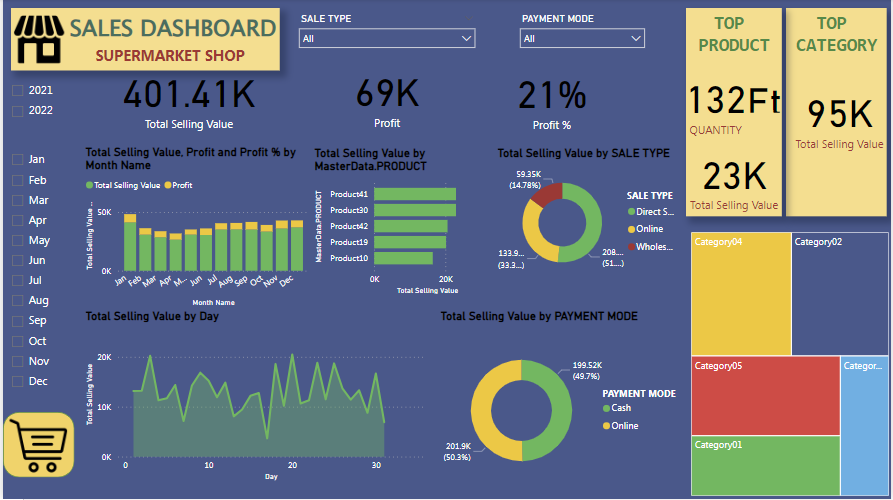

Layout of this report page (visuals, bound fields, positions):
{"tool":"powerbi","page":{"name":"Page 1","canvas":[1280,720],"ordinal":0},"visuals":[{"type":"slicer","fields":{"Values":["InputData.Year"]},"box":[0,112.5,102.5,112.5],"z":0},{"type":"slicer","fields":{"Values":["InputData.SALE TYPE"]},"box":[415.7,14.3,274.3,74.3],"z":1000},{"type":"slicer","fields":{"Values":["InputData.Month Name"]},"box":[0,211.7,102.2,371.5],"z":2000},{"type":"slicer","fields":{"Values":["InputData.PAYMENT MODE"]},"box":[734.3,14.3,200,68.6],"z":3000},{"type":"card","fields":{"Values":["Sum(InputData.Total Selling Value)"]},"box":[156.5,87,221.7,108.7],"z":4000},{"type":"textbox","box":[1127.5,13,145.4,299.5],"z":4500},{"type":"card","fields":{"Values":["Sum(InputData.Total Selling Value)"]},"box":[1133.3,113.8,142.6,110.9],"z":5000},{"type":"textbox","box":[983.5,13,138.2,299.5],"z":5500},{"type":"card","fields":{"Values":["InputData.Profit"]},"box":[466.6,86.4,172.8,106.6],"z":6000},{"type":"card","fields":{"Values":["InputData.Profit %"]},"box":[704.2,89.3,172.8,106.6],"z":7000},{"type":"card","fields":{"Values":["Sum(InputData.Total Selling Value)"]},"box":[982.9,204.3,138.6,107.1],"z":8000},{"type":"card","fields":{"Values":["Min(InputData.MasterData.UOM)"]},"box":[1052.6,113.8,87.8,54.7],"z":9000},{"type":"card","fields":{"Values":["Sum(InputData.QUANTITY)"]},"box":[943.2,95,165.6,109.4],"z":10000},{"type":"columnChart","fields":{"Category":["InputData.Month Name"],"Y":["Sum(InputData.Total Selling Value)","InputData.Profit"]},"box":[114.1,210.7,332.2,237.1],"z":11000},{"type":"clusteredBarChart","fields":{"Y":["Sum(InputData.Total Selling Value)"],"Category":["InputData.MasterData.PRODUCT"]},"box":[443.3,211.7,260,218.3],"z":12000},{"type":"areaChart","fields":{"Y":["Sum(InputData.Total Selling Value)"],"Category":["InputData.Day"]},"box":[113.3,446.7,498.3,251.7],"z":13000},{"type":"donutChart","fields":{"Category":["InputData.SALE TYPE"],"Y":["Sum(InputData.Total Selling Value)"]},"box":[706.7,211.7,276.7,201.7],"z":14000},{"type":"donutChart","fields":{"Y":["Sum(InputData.Total Selling Value)"],"Series":["InputData.PAYMENT MODE"]},"box":[625,446.7,358.3,273.3],"z":15000},{"type":"treemap","fields":{"Group":["InputData.MasterData.CATEGORY"],"Values":["Sum(InputData.Total Selling Value)"]},"box":[986.3,330.7,294.1,389.3],"z":16000},{"type":"textbox","box":[11.4,12.9,387.1,90],"z":17000},{"type":"image","box":[0,10,102.9,95.7],"z":20000},{"type":"shape","box":[0,594.3,102.9,94.3],"z":22000},{"type":"image","box":[4.3,594.3,92.9,95.7],"z":22500}]}

Visuals, with their boxes in screenshot pixels (x1, y1, x2, y2), scaled from the page's 1280x720 canvas onto the 893x500 screenshot:
slicer - InputData.Year: Rect(0, 78, 72, 156)
slicer - InputData.SALE TYPE: Rect(290, 10, 481, 62)
slicer - InputData.Month Name: Rect(0, 147, 71, 405)
slicer - InputData.PAYMENT MODE: Rect(512, 10, 652, 58)
card - Sum(InputData.Total Selling Value): Rect(109, 60, 264, 136)
textbox: Rect(787, 9, 888, 217)
card - Sum(InputData.Total Selling Value): Rect(791, 79, 890, 156)
textbox: Rect(686, 9, 783, 217)
card - InputData.Profit: Rect(326, 60, 446, 134)
card - InputData.Profit %: Rect(491, 62, 612, 136)
card - Sum(InputData.Total Selling Value): Rect(686, 142, 782, 216)
card - Min(InputData.MasterData.UOM): Rect(734, 79, 796, 117)
card - Sum(InputData.QUANTITY): Rect(658, 66, 774, 142)
columnChart - InputData.Month Name x Sum(InputData.Total Selling Value): Rect(80, 146, 311, 311)
clusteredBarChart - Sum(InputData.Total Selling Value) x InputData.MasterData.PRODUCT: Rect(309, 147, 491, 299)
areaChart - Sum(InputData.Total Selling Value) x InputData.Day: Rect(79, 310, 427, 485)
donutChart - InputData.SALE TYPE x Sum(InputData.Total Selling Value): Rect(493, 147, 686, 287)
donutChart - Sum(InputData.Total Selling Value) x InputData.PAYMENT MODE: Rect(436, 310, 686, 499)
treemap - InputData.MasterData.CATEGORY x Sum(InputData.Total Selling Value): Rect(688, 230, 892, 499)
textbox: Rect(8, 9, 278, 71)
image: Rect(0, 7, 72, 73)
shape: Rect(0, 413, 72, 478)
image: Rect(3, 413, 68, 479)
